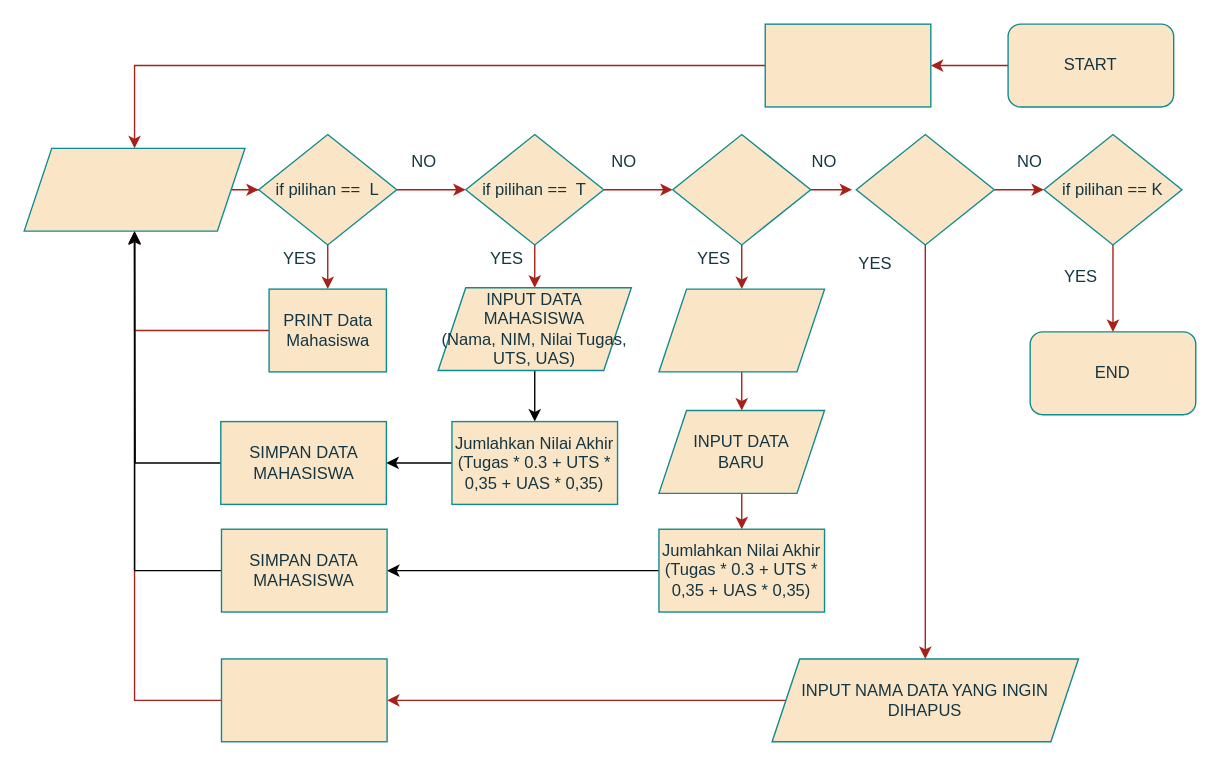
This 1220x766 diagram has some shape labels left out. The box of each missing label's shape, as (x1, y1, x2, y2) in pixels:
if pilihan == H: (855, 133, 994, 245)
if pilihan == U: (671, 133, 811, 245)
Inisialisasi Dictionary Data Mahasiswa: (764, 23, 931, 107)
INPUT NAMA MAHASISWA YG INGIN DIUBAH: (658, 288, 825, 372)
INPUT PILIHAN (L, T, U, H, K): (23, 147, 245, 231)
PRINT "DATA TELAH DIHAPUS": (220, 658, 387, 742)
